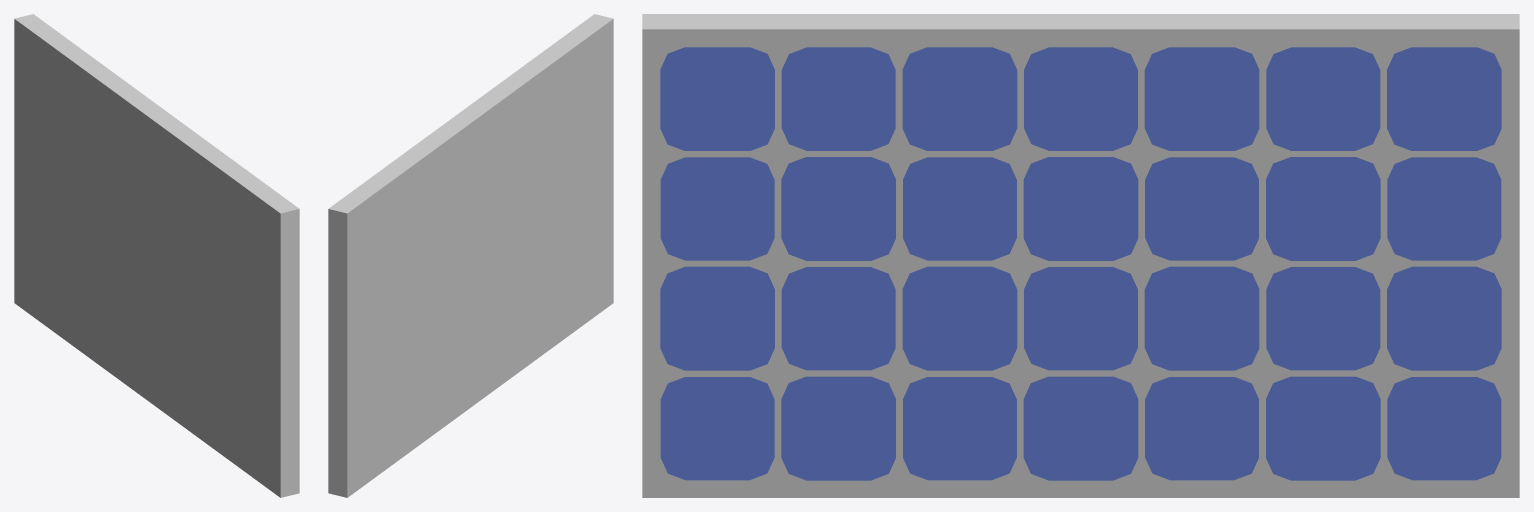
Rendered from solar_unit_0.fbx.
3 views of the same model, side by side, from view 1: azimuth 30°, elevation 25°; view 2: azimuth 150°, elevation 25°; view 3: azimuth 270°, elevation 25° (orthographic). The views are drawn at different scales.
Visible parts, largest first — view 1: solar_panel.004; view 2: solar_panel.004; view 3: solar_panel.004.
Part boxes in pixels (x1,y1,x2,y2): solar_panel.004: (14,14,299,497); solar_panel.004: (328,14,613,497); solar_panel.004: (642,14,1519,497).
Size of the model in its own units: 30.33 by 427 by 724.
